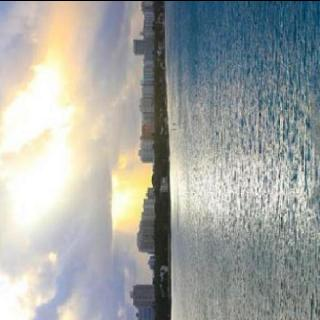Cirrostratus: (0, 0, 158, 320)
